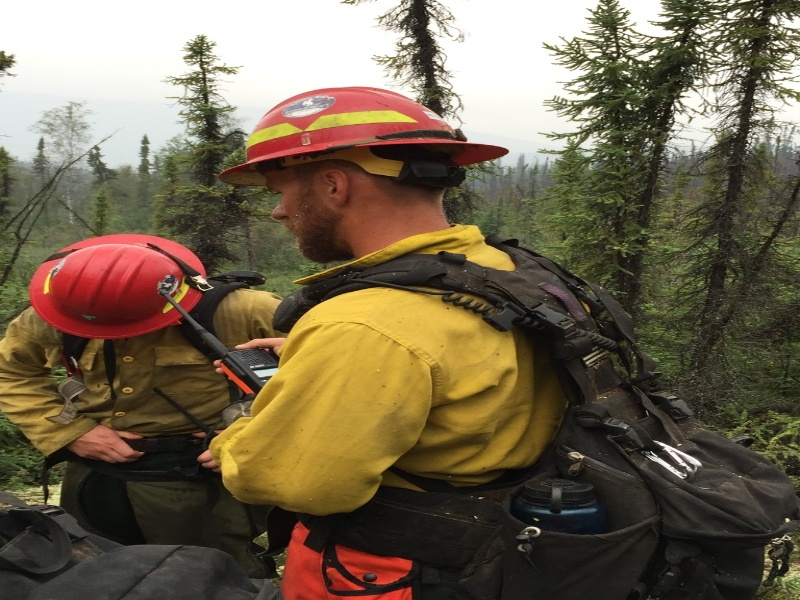Baret: (245, 84, 467, 184)
